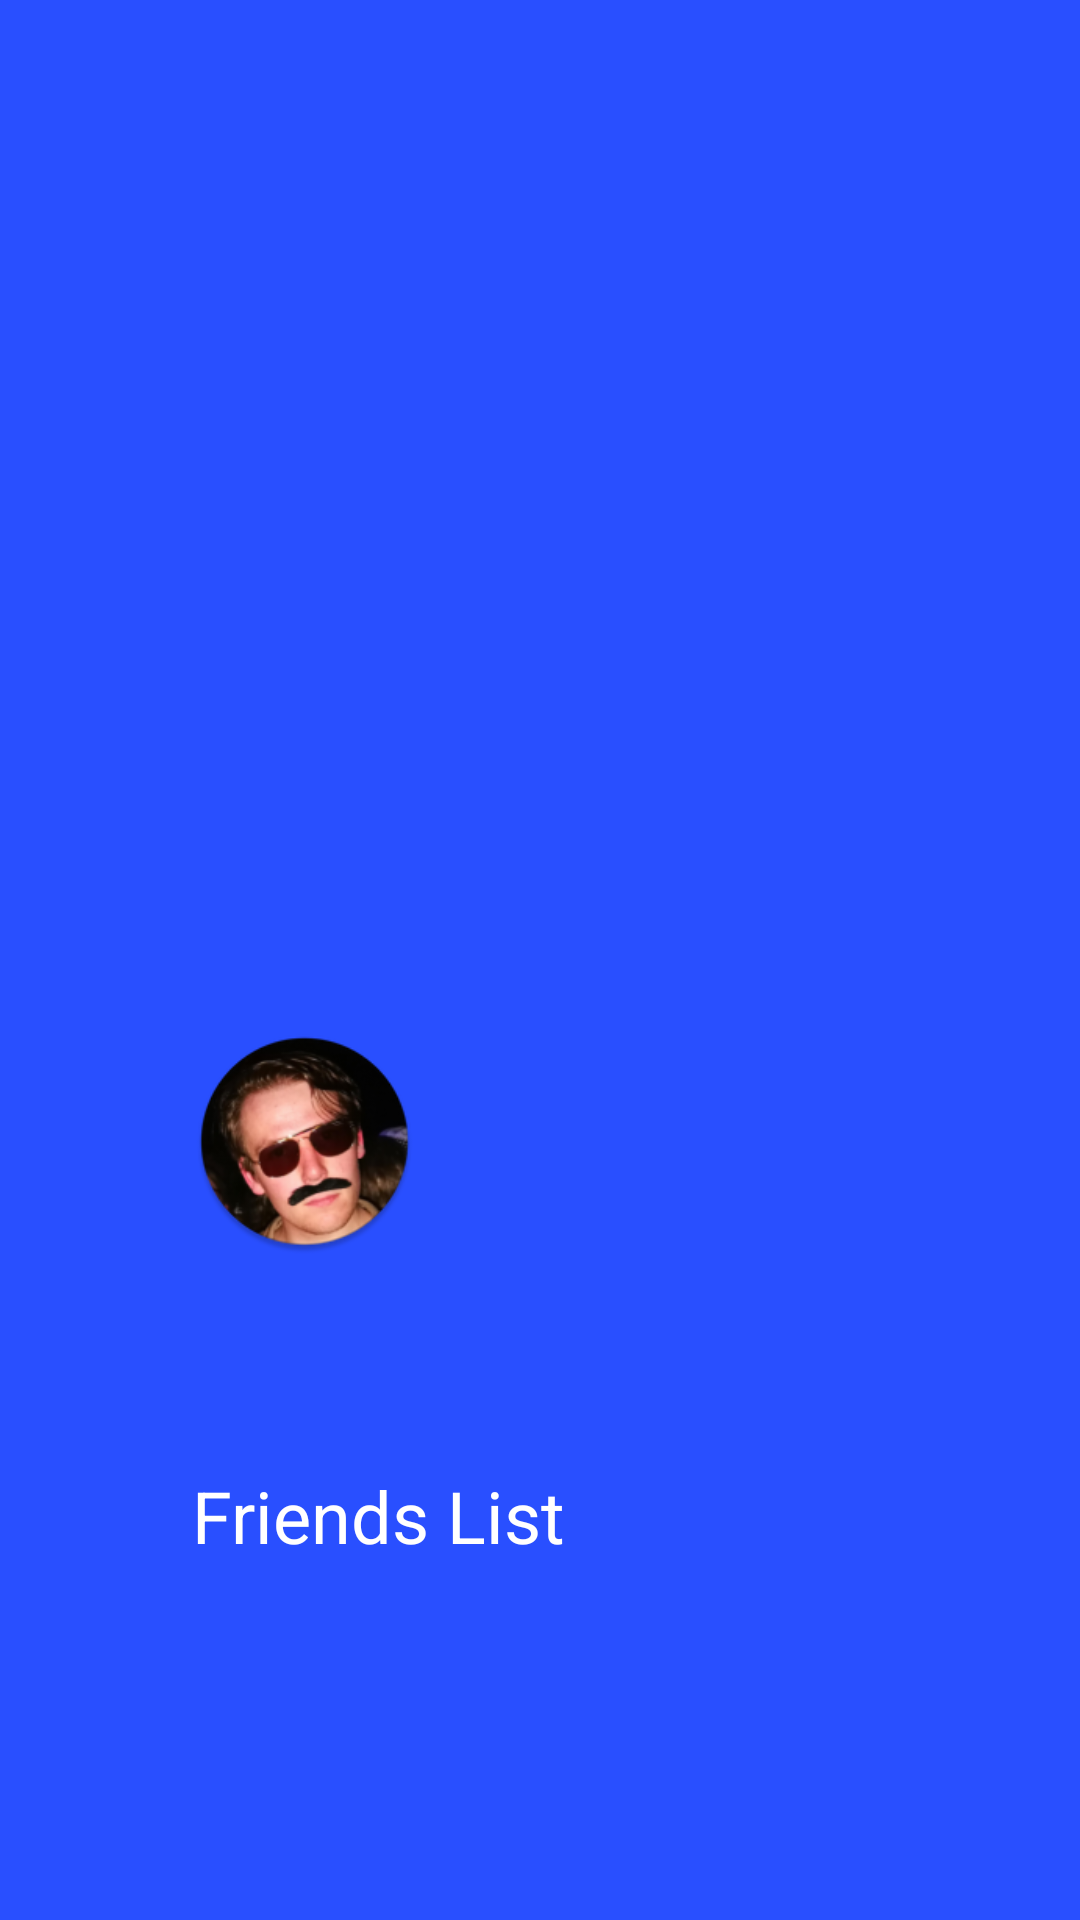

Where icons sit on this 1080px×1920px app screen, as (x1, y1, x2, y2):
profile round: (200, 1037, 409, 1250)
